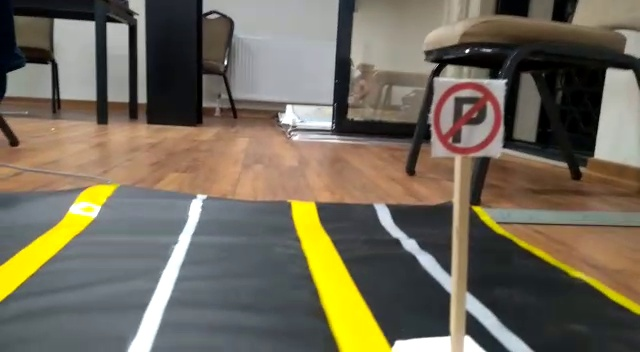park_yapilmaz: (427, 78, 502, 159)
